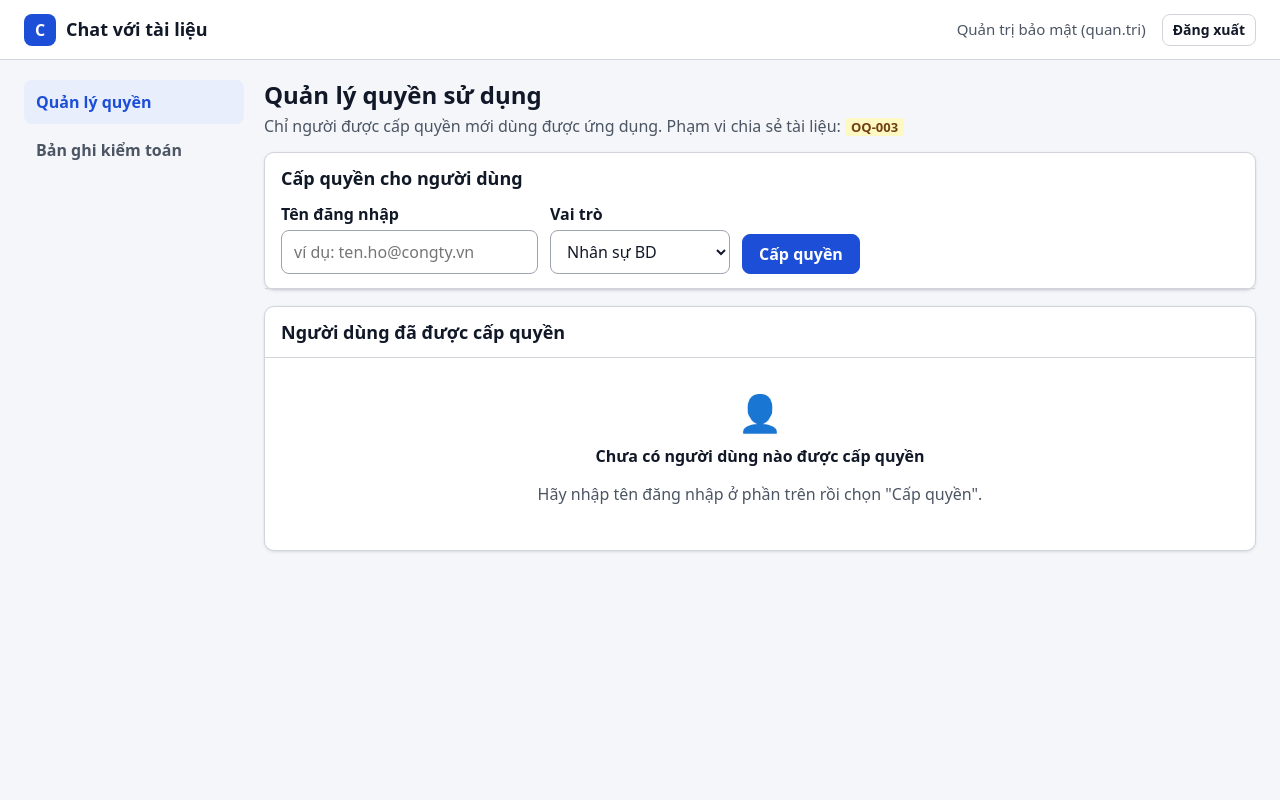
Test: S-05 Quản lý quyền › cấp quyền gọi API với tên đăng nhập và vai trò
The image size is (1280, 800).
In the field labelled "Tên đăng nhập": (410, 252) [281,230,538,274], type "moi.nguoi"
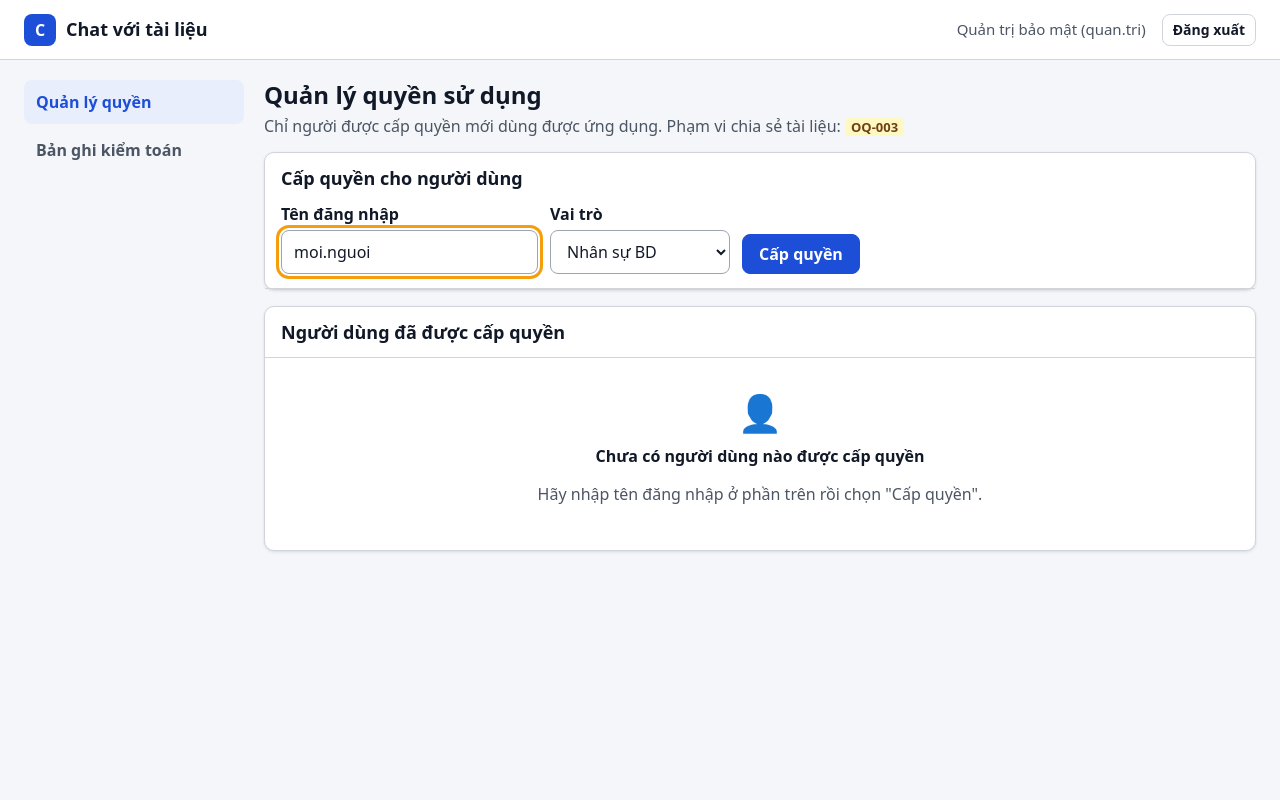
Select "Quản lý" in the dropdown labelled "Vai trò": (640, 252) [550,230,730,274]
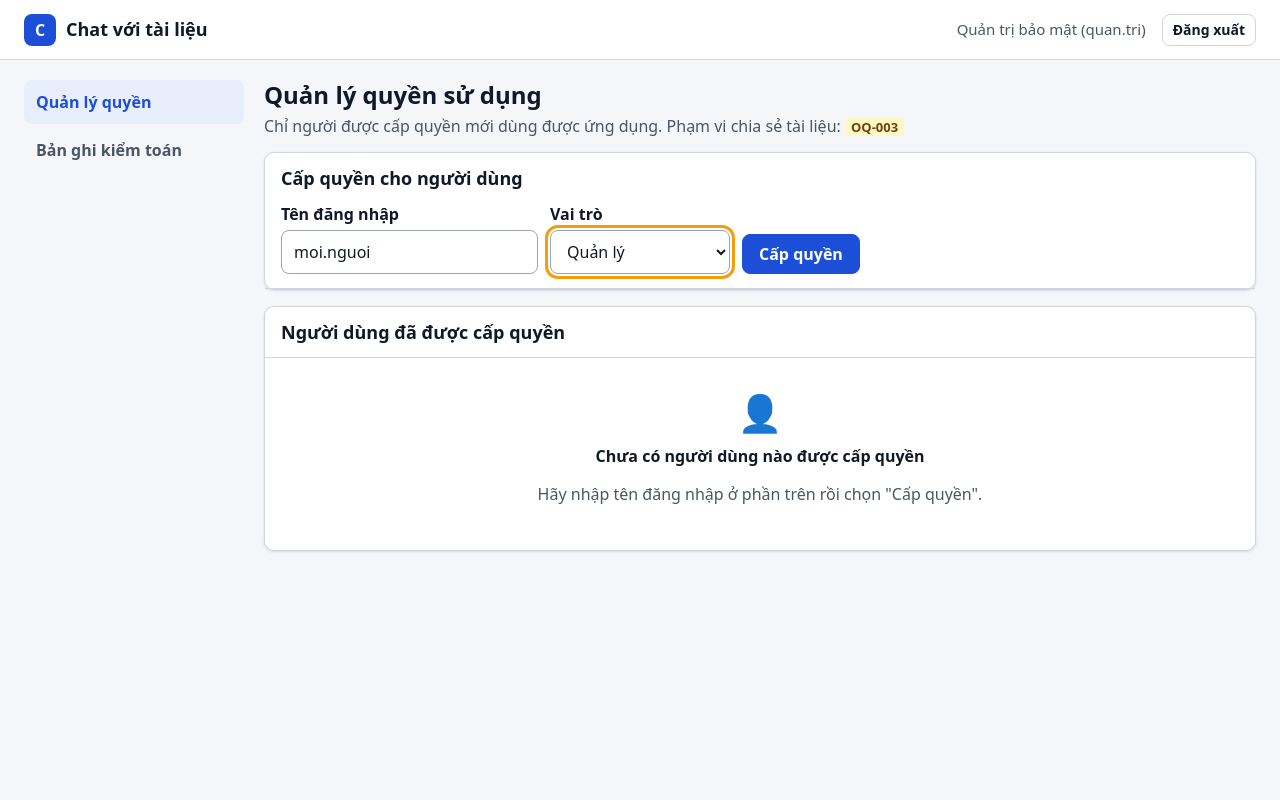
Click the button "Cấp quyền": (801, 254) [742,234,860,274]
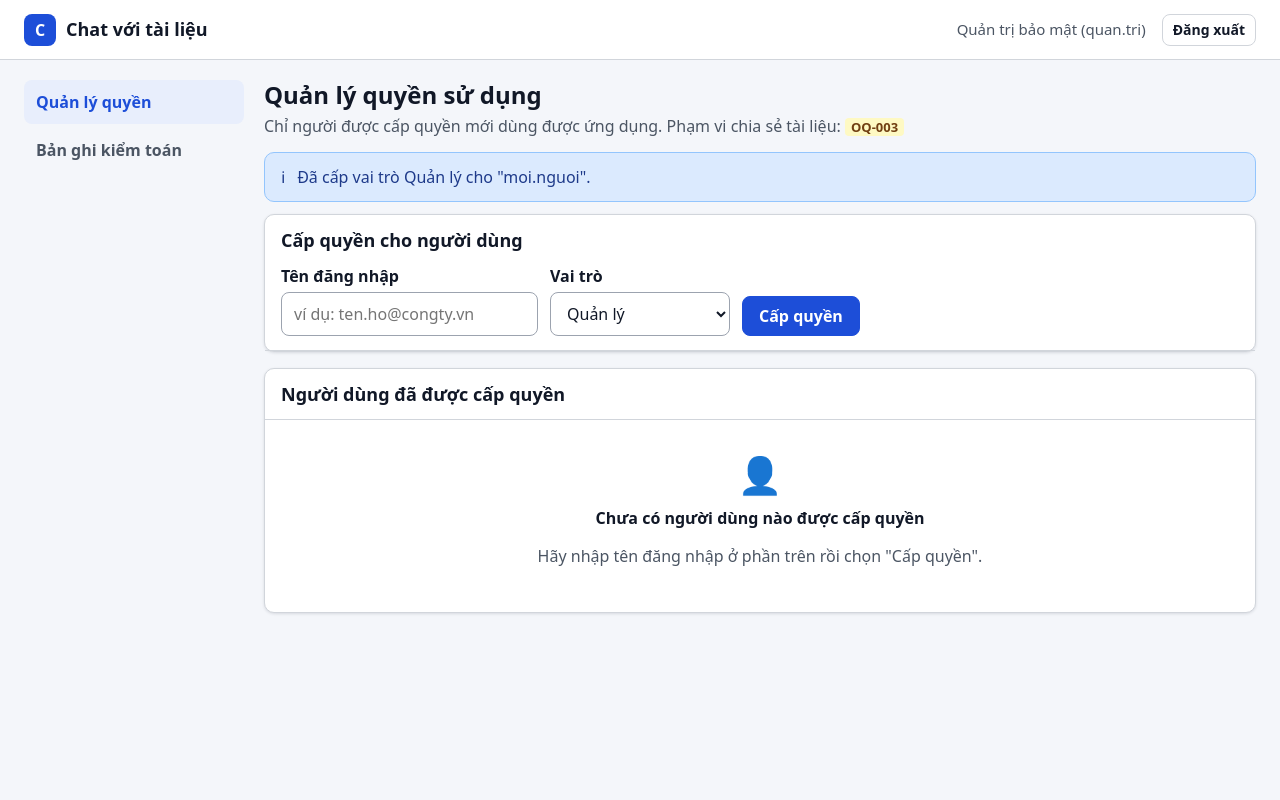
Result: the text "Đã cấp vai trò Quản lý cho \"moi.nguoi\"." is shown at [297,165,590,189]
